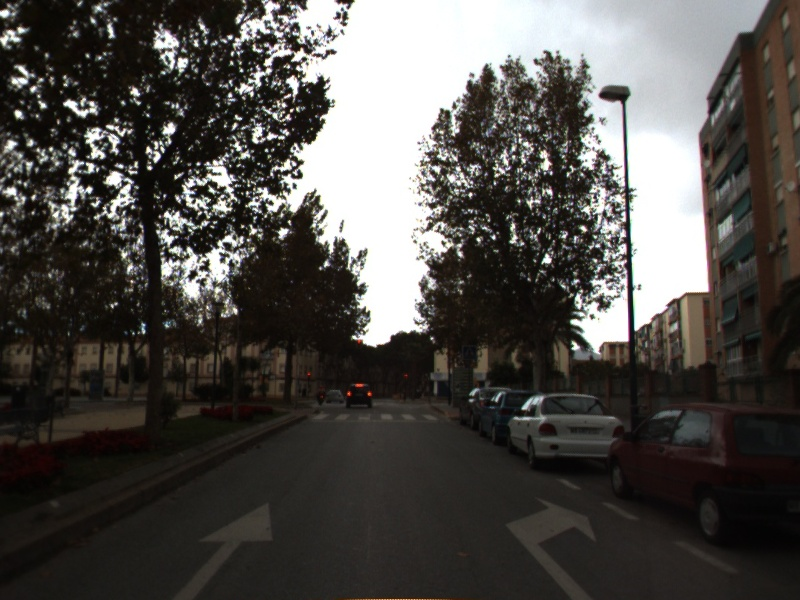RIGHT: (501, 495, 601, 600)
STRAIGHT: (172, 497, 275, 600)
